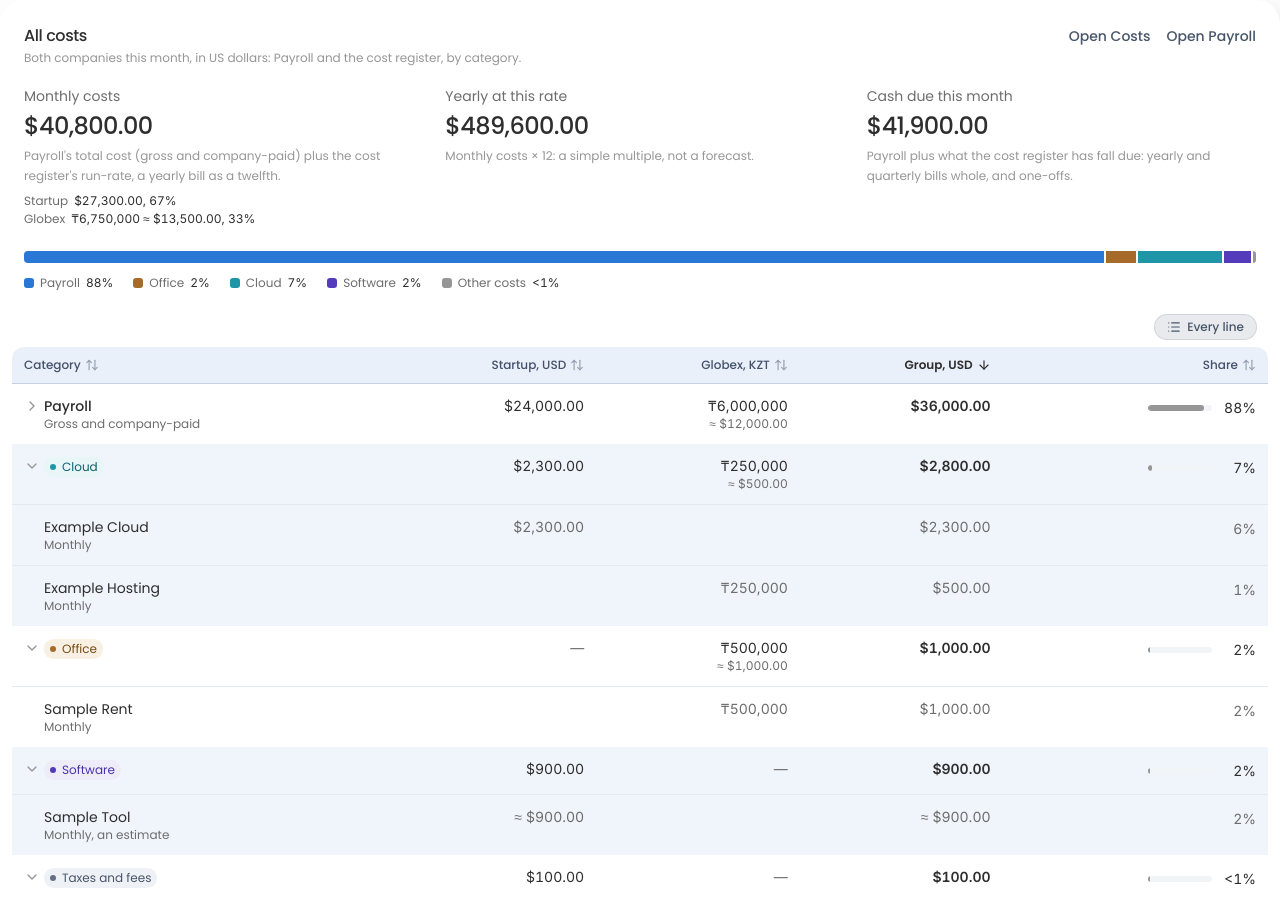
the group: both companies in dollars › Payroll opens to employees and contractors, never a person, and leads to the Payroll page
Click the button "Payroll Gross and company-paid": (112, 414) [24,396,200,432]
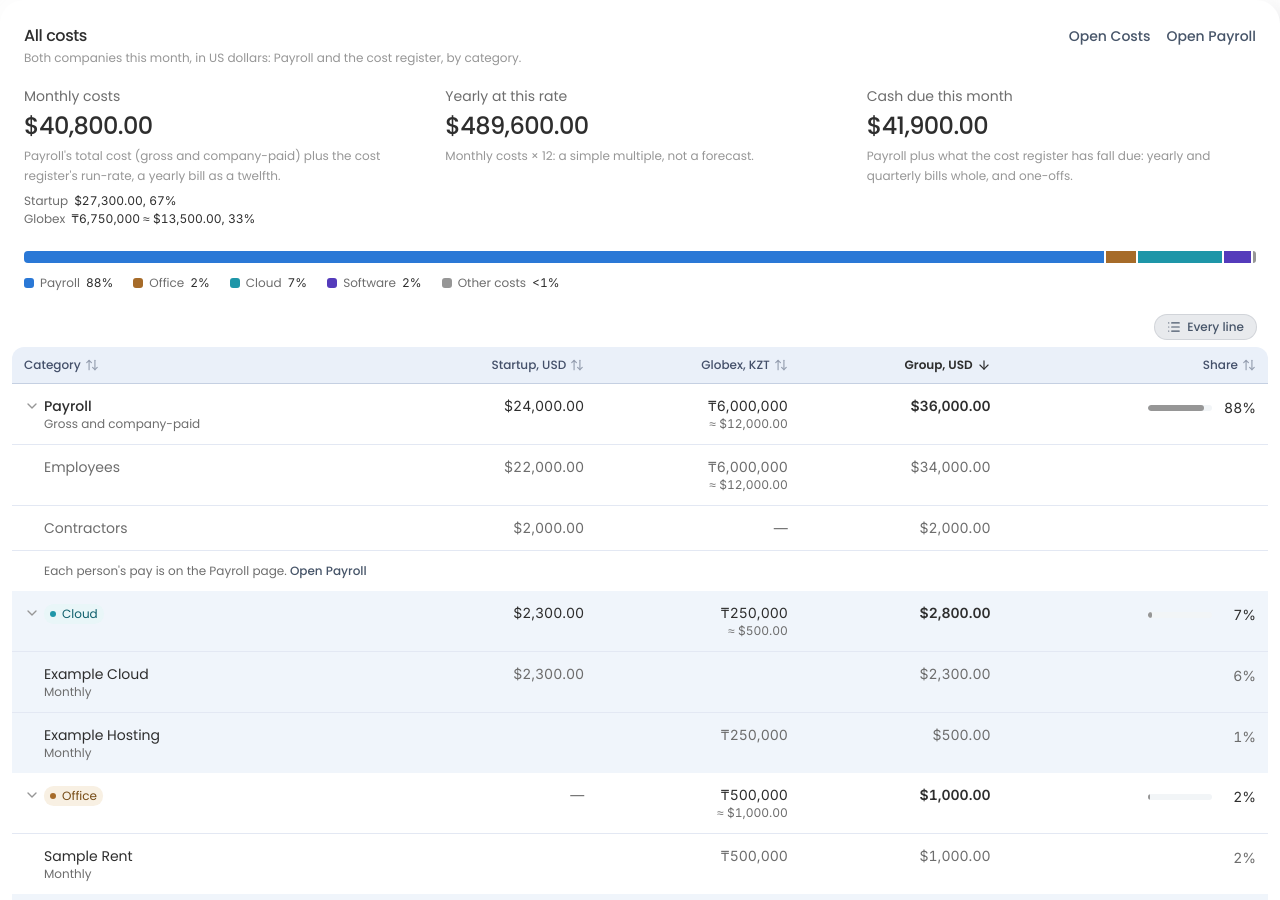
Now the column heading "Contractors" is shown, box [12,506,381,550]
